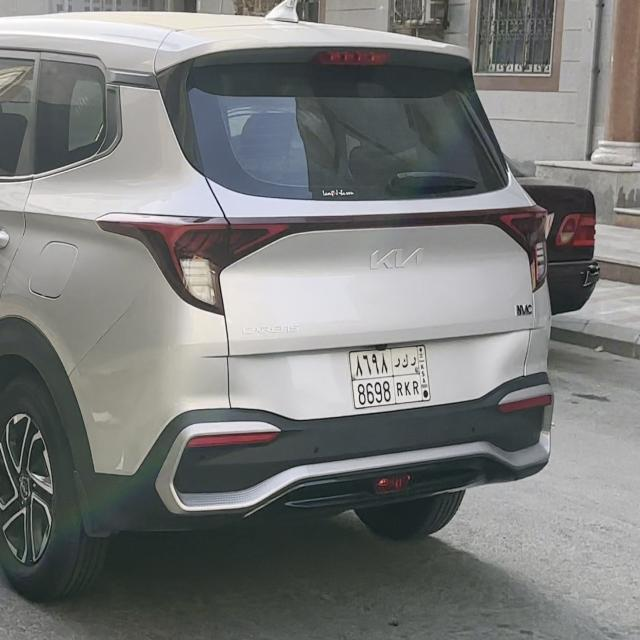Car-plate: (343, 331, 445, 420)
